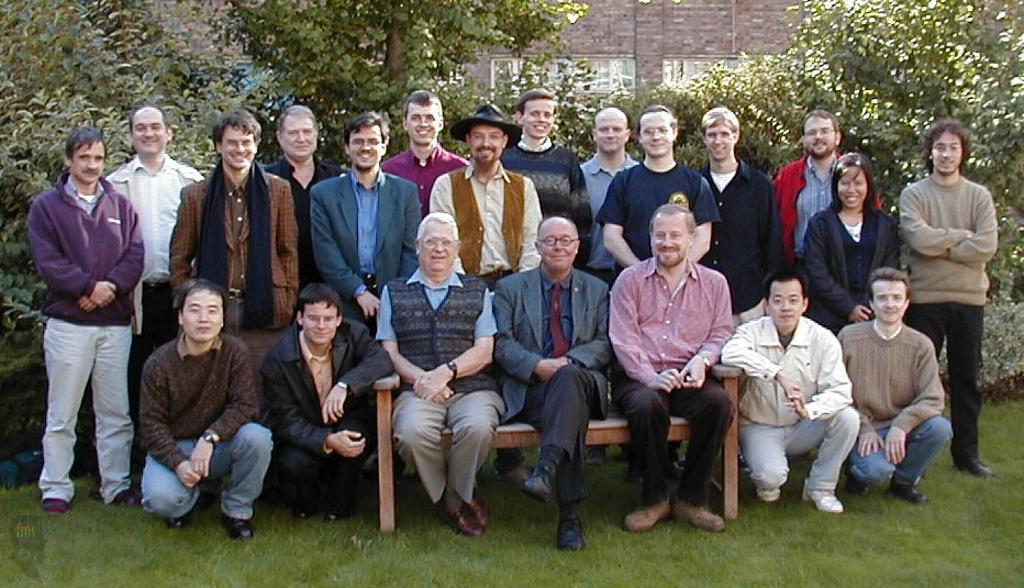face: (183, 289, 223, 342), (653, 214, 687, 268), (420, 222, 455, 271), (539, 223, 575, 269), (771, 280, 803, 328), (133, 108, 166, 154), (221, 126, 256, 169), (303, 300, 337, 344), (873, 280, 907, 323), (349, 126, 382, 169), (72, 141, 105, 183), (407, 102, 439, 144), (641, 113, 672, 156), (283, 117, 315, 157), (932, 133, 963, 174), (595, 113, 627, 152), (804, 118, 835, 157), (471, 127, 503, 164), (839, 167, 867, 208), (524, 100, 553, 137), (704, 127, 733, 160)
